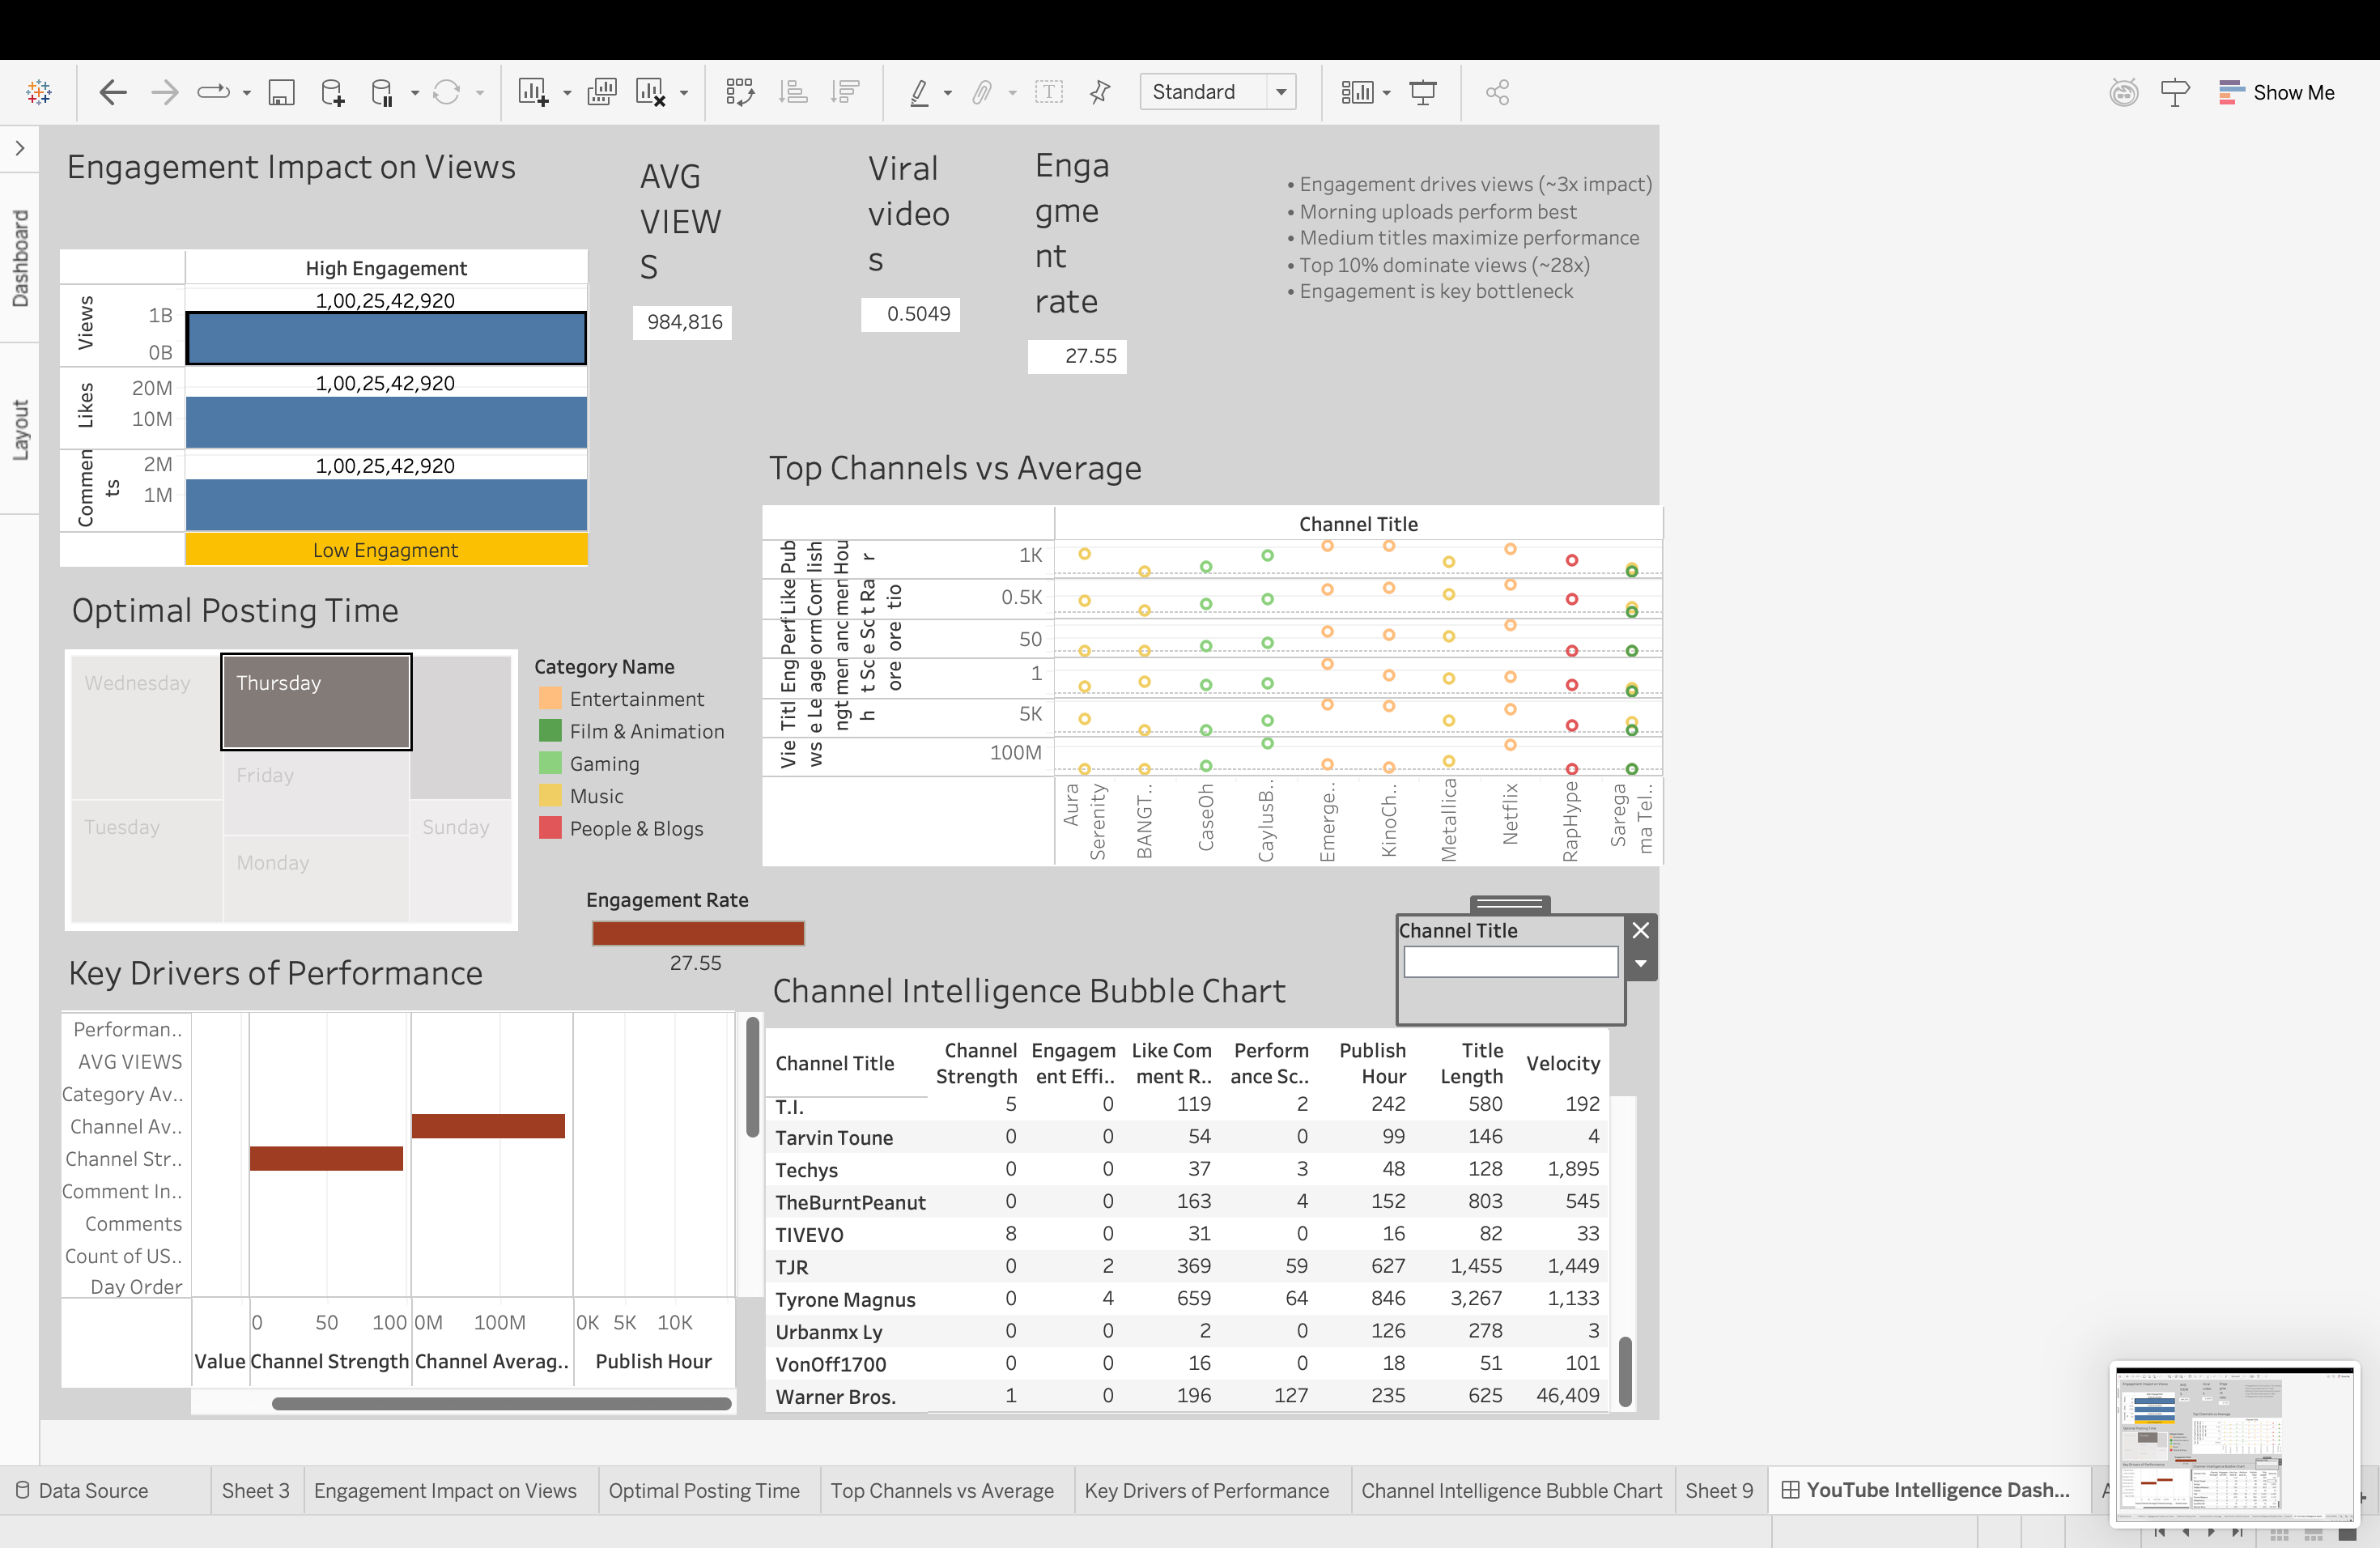

The page's visual inventory and layout, read from the dashboard file:
{"tool":"tableau","page":{"name":"YouTube Intelligence Dashboard","canvas":[1000,800],"ordinal":2},"visuals":[{"type":"title","box":[8,8,984,42]},{"type":"text","box":[8,50,984,371]},{"type":"worksheet","title":"Low Engagment vs high engagment ","mark":"Automatic","rows":["views","likes","comments"],"cols":["Calculation_2753228813205511"],"box":[6,60,322,248]},{"type":"legend","title":"Feature Impact Ranking","param":"[federated.0fkxawy17iy9o01d92id51t7xwqk].[sum:Calculation_2753228813864970:qk]","box":[820,303,140,76]},{"type":"worksheet","title":"Best Time to Post","mark":"Automatic","box":[1,310,331,253]},{"type":"legend","title":"Best Time to Post","param":"[federated.0fkxawy17iy9o01d92id51t7xwqk].[sum:views:qk]","box":[334,316,143,50]},{"type":"worksheet","title":"Feature Impact Ranking","mark":"Automatic","cols":["Calculation_2753228988555288","Calculation_2753228813459464","Calculation_2753228812451842"],"box":[480,333,517,205]},{"type":"legend","title":"Top Channels vs Average","param":"[federated.0fkxawy17iy9o01d92id51t7xwqk].[none:category_name:nk]","box":[350,369,140,118]},{"type":"text","box":[8,421,492,371]},{"type":"text","box":[500,421,492,371]}]}

Visuals, with their boxes on the page's 1000x800 design canvas (x1, y1, x2, y2). These are canvas units, not pixel positions in the 2380x1548 screenshot, which may show the page scaled, cropped or inside an application window:
title: (8,8,992,50)
text: (8,50,992,421)
"Low Engagment vs high engagment " worksheet: (6,60,328,308)
"Feature Impact Ranking" legend: (820,303,960,379)
"Best Time to Post" worksheet: (1,310,332,563)
"Best Time to Post" legend: (334,316,477,366)
"Feature Impact Ranking" worksheet: (480,333,997,538)
"Top Channels vs Average" legend: (350,369,490,487)
text: (8,421,500,792)
text: (500,421,992,792)
